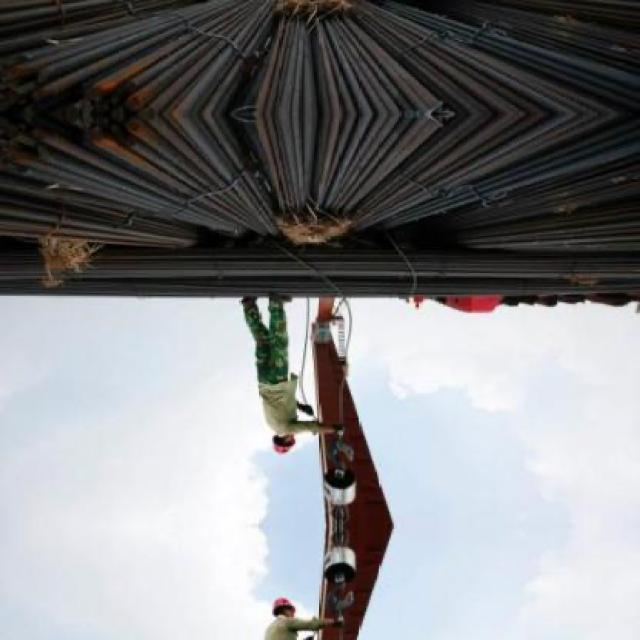con casco: (249, 424, 309, 460), (264, 596, 308, 626)
